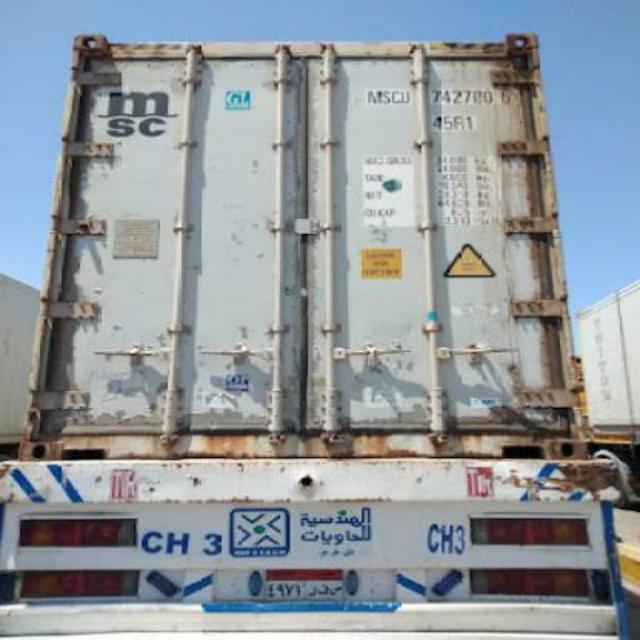0: (482, 82, 494, 108), (474, 86, 482, 104)
2: (450, 84, 462, 106)
4: (440, 82, 452, 106)
6: (501, 84, 514, 108)
7: (428, 84, 440, 106), (462, 82, 472, 106)
C: (392, 83, 402, 107)
M: (366, 84, 379, 106)
S: (382, 85, 392, 106)
U: (398, 80, 414, 108)
